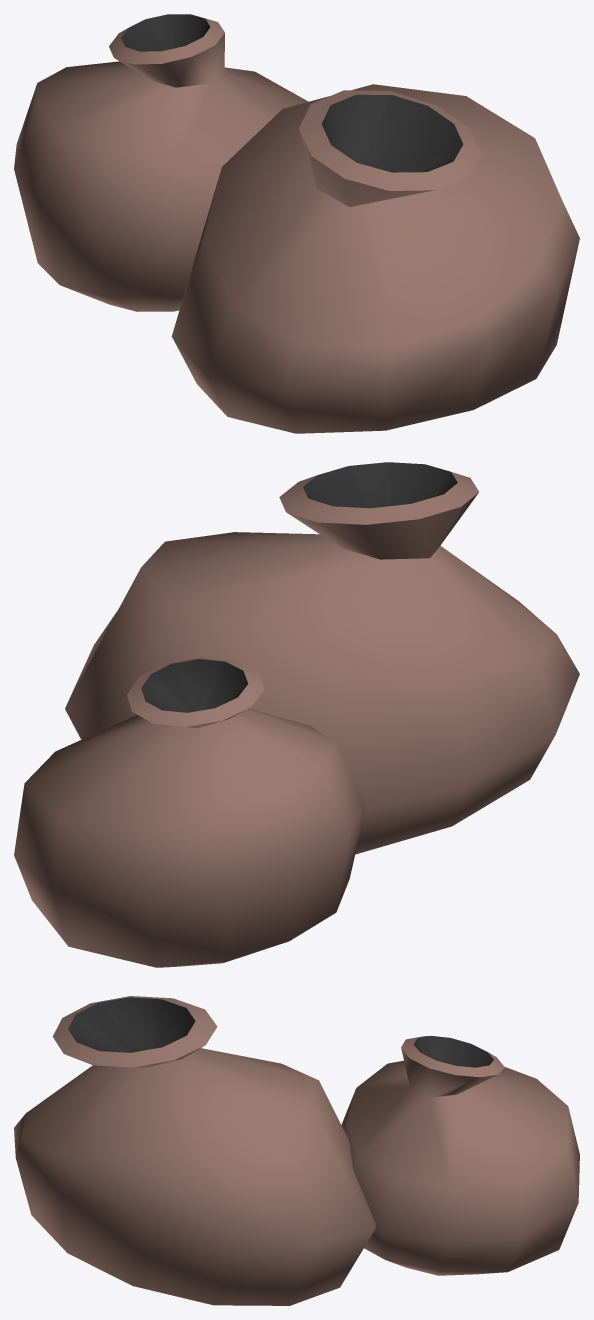
File: n4_jug_001_lev4.glb
The picture shows the model from 3 angles, top to bottom: view 1: azimuth 30°, elevation 25°; view 2: azimuth 150°, elevation 25°; view 3: azimuth 270°, elevation 25°; orthographic projection. The views are drawn at different scales.
Visible parts, largest first — view 1: n4_jug_001_lev4; view 2: n4_jug_001_lev4; view 3: n4_jug_001_lev4.
Boxes of the visible parts, left/top/right/bottom form: n4_jug_001_lev4: left=14, top=14, right=579, bottom=433; n4_jug_001_lev4: left=14, top=462, right=579, bottom=967; n4_jug_001_lev4: left=14, top=996, right=579, bottom=1305.
Bounding box in the file's own units: 0.8894 × 0.6566 × 1.39.
Materials: 1 (1 with a texture image).
